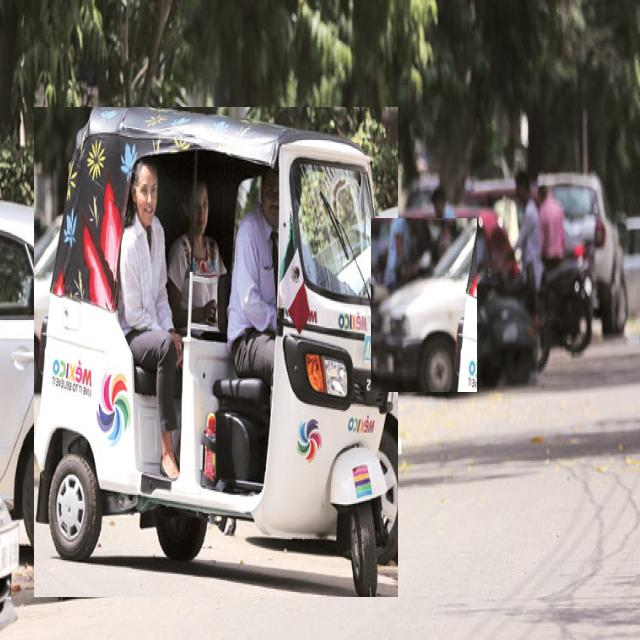autorickshaw: (35, 108, 398, 597)
car: (372, 219, 477, 392), (538, 173, 628, 334)
